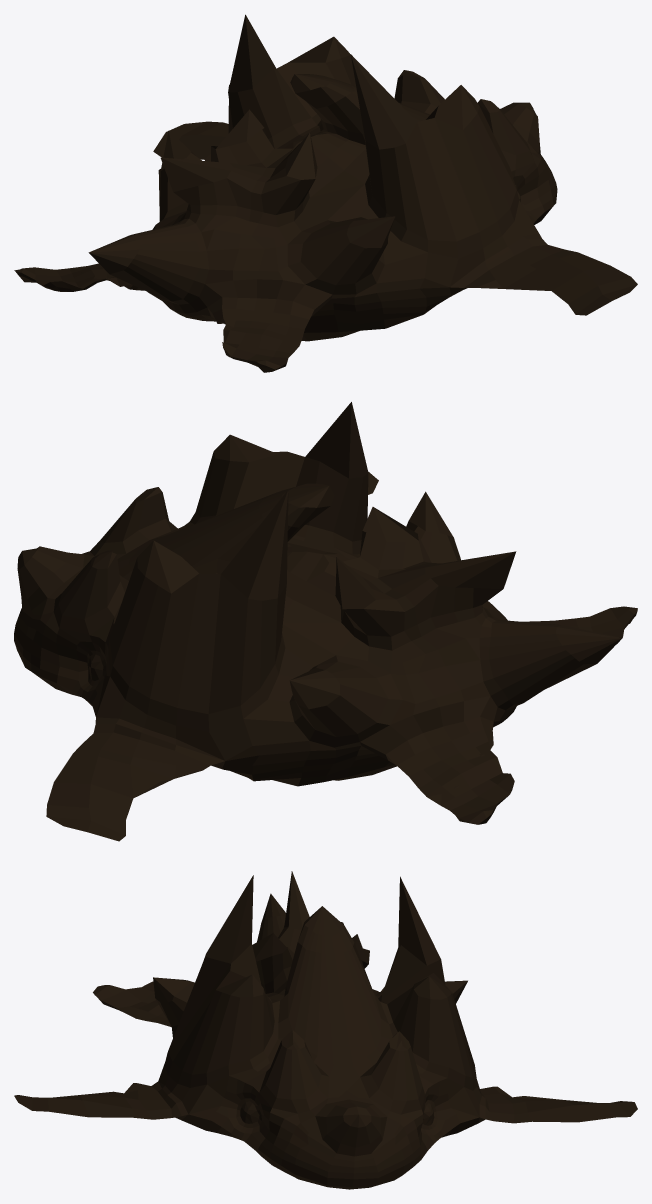
The model's file is Rock Fish no gem covers.obj.
3 renders of one model, top to bottom at view 1: azimuth 30°, elevation 25°; view 2: azimuth 150°, elevation 25°; view 3: azimuth 270°, elevation 25°, orthographic. The views are drawn at different scales.
Visible parts, largest first — view 1: Fish1; view 2: Fish1; view 3: Fish1.
Part boxes in pixels (x1=…): Fish1: x1=14, y1=14, x2=637, y2=372; Fish1: x1=14, y1=402, x2=637, y2=841; Fish1: x1=14, y1=871, x2=637, y2=1189.
Bounding box in the file's own units: 2.22 × 1.19 × 2.67.
